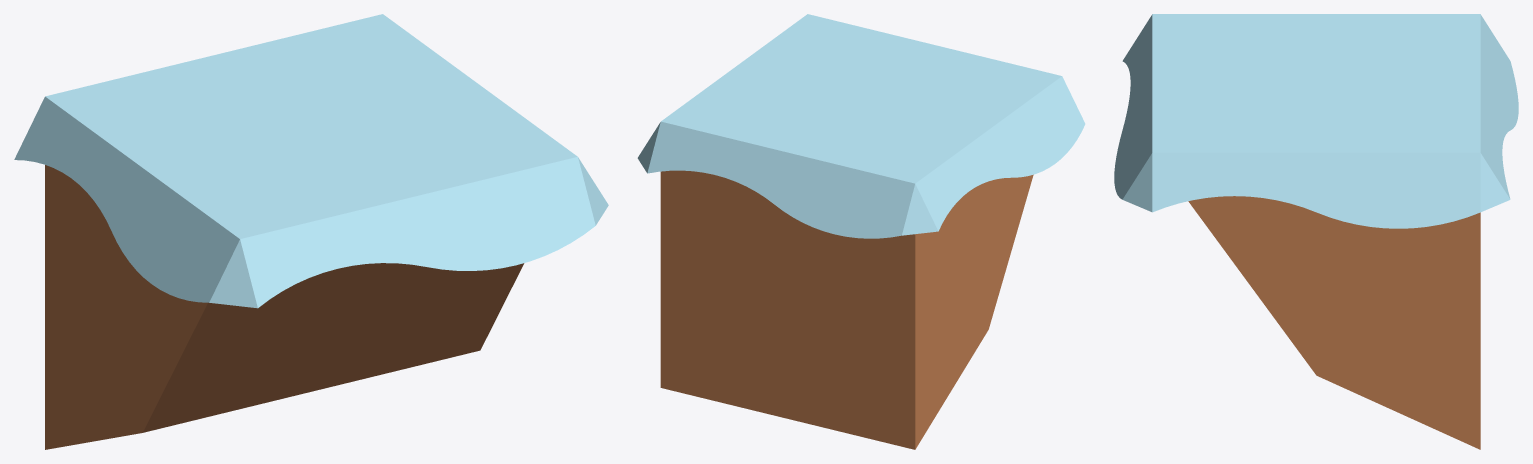
File: blockSnowCliff.obj
The picture shows the model from 3 angles, left to right: view 1: azimuth 30°, elevation 25°; view 2: azimuth 150°, elevation 25°; view 3: azimuth 270°, elevation 25°; orthographic projection. The views are drawn at different scales.
Visible parts, largest first — view 1: blockSnowCliff; view 2: blockSnowCliff; view 3: blockSnowCliff.
Boxes of the visible parts, left/top/right/bottom form: blockSnowCliff: left=14, top=14, right=608, bottom=449; blockSnowCliff: left=637, top=14, right=1085, bottom=449; blockSnowCliff: left=1114, top=14, right=1518, bottom=449.
Bounding box in the file's own units: 1.23 × 1 × 1.23.
